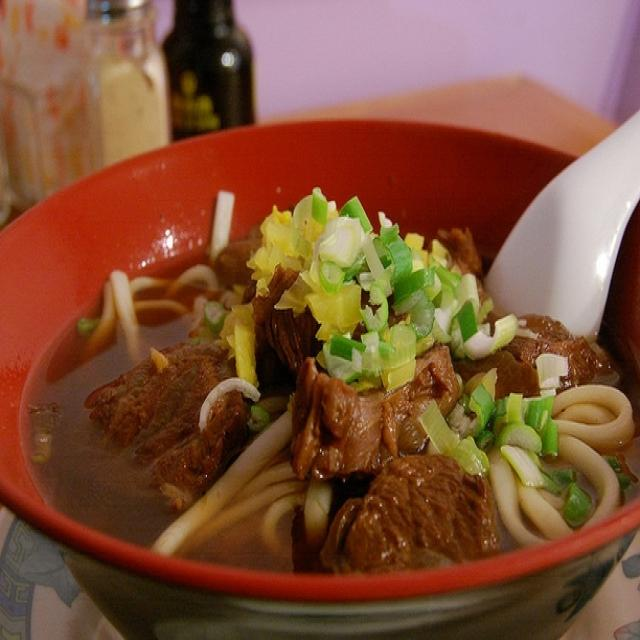面条主食: (14, 106, 623, 584)
